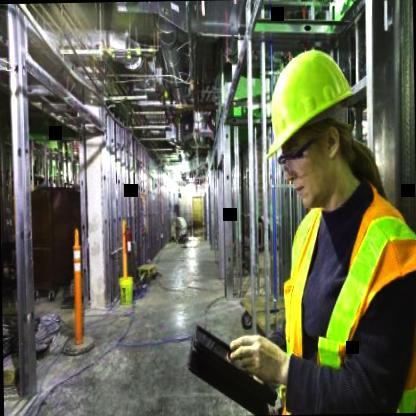helmet: (256, 30, 374, 218)
